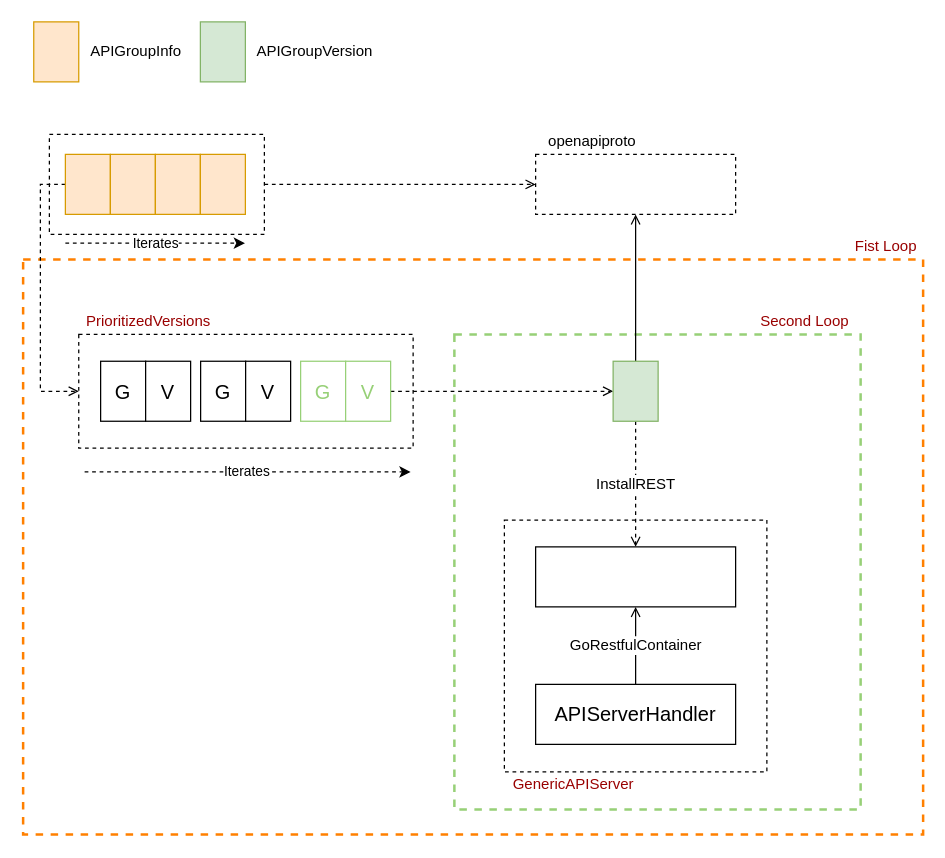
The diagram is 945 pixels wide and 858 high, and some of its shapes have lost their labels. Each missing label, with the box of its shape:
Container: (534, 546, 736, 607)
Models: (534, 153, 736, 214)
